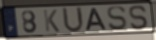8: (21, 10, 39, 34)
A: (85, 7, 109, 32)
K: (42, 9, 61, 34)
S: (106, 5, 128, 32), (128, 4, 150, 31)
U: (61, 6, 86, 34)
